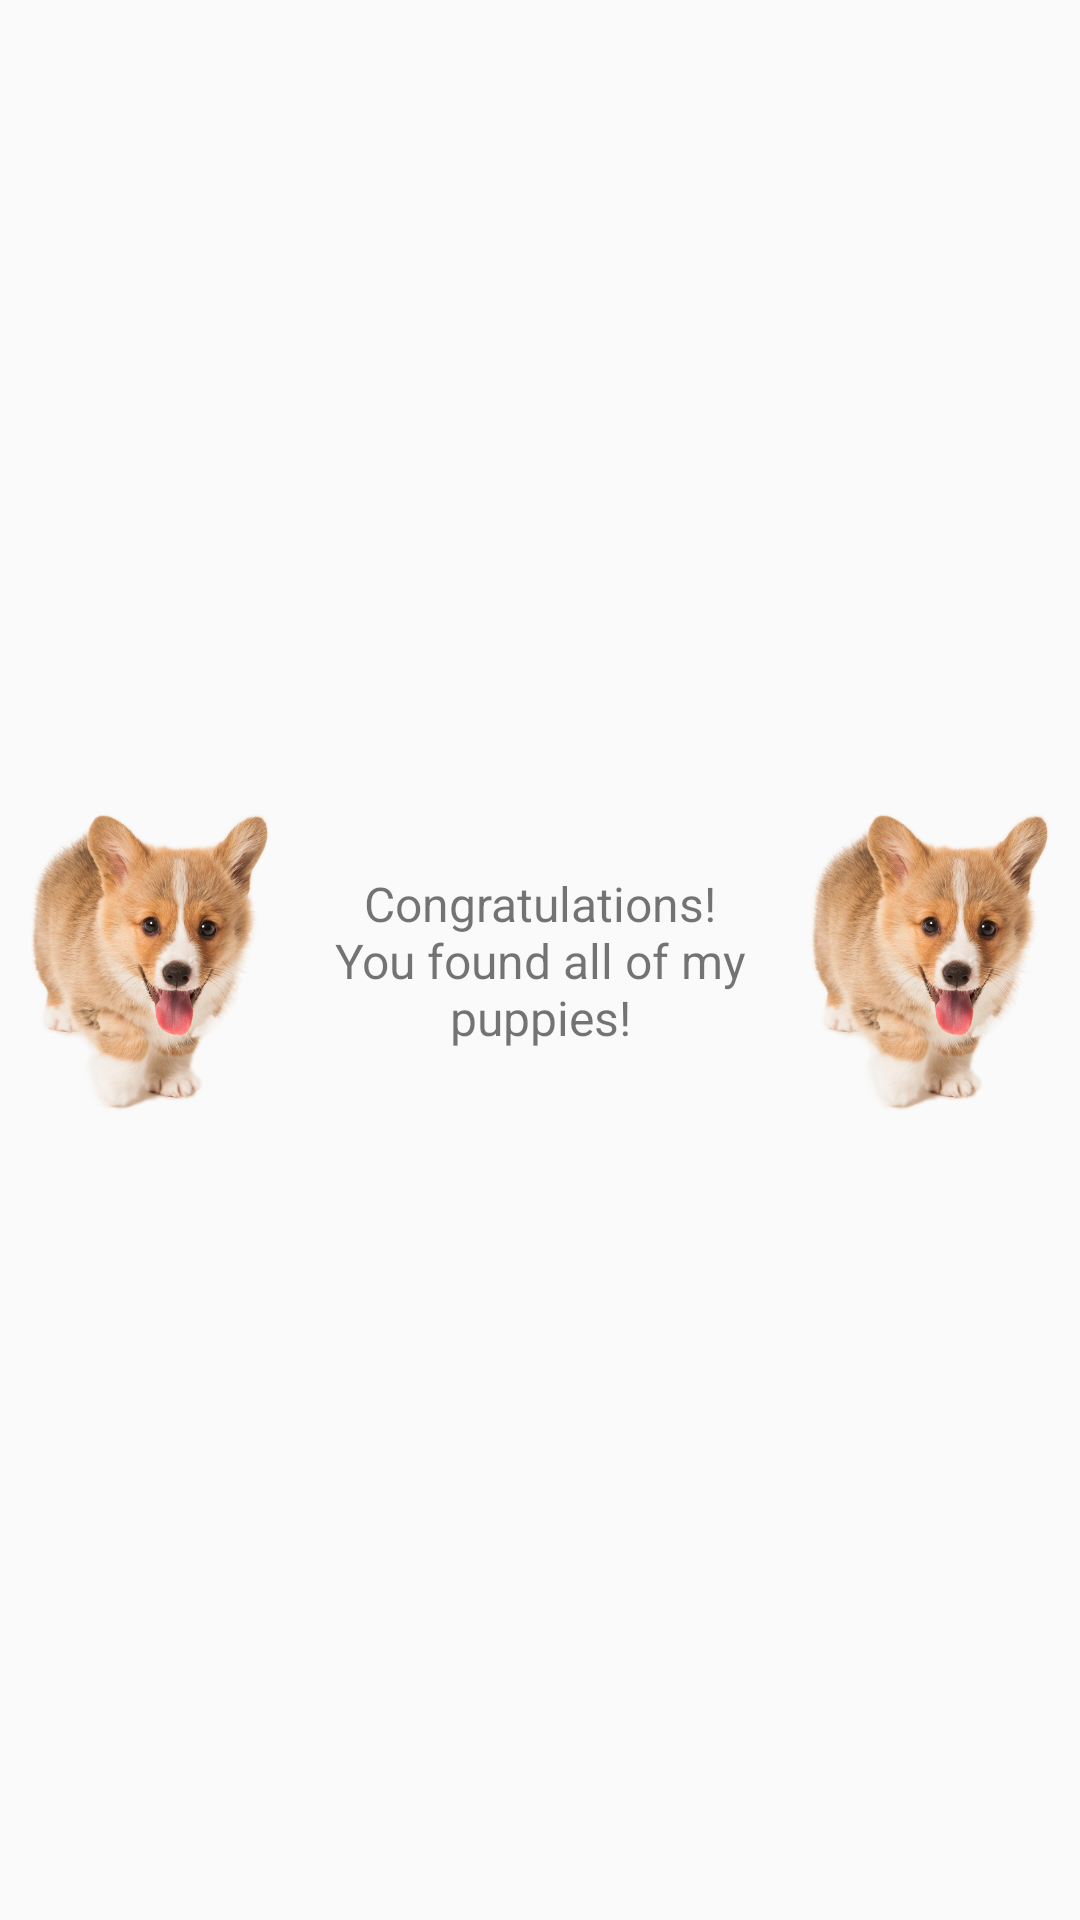

Locate icon controls on the screen. Image size 1080px×1920px, boxes as (x1, y1, x2, y2).
seekpng cute puppy: (32, 815, 268, 1109), (812, 815, 1048, 1109)
